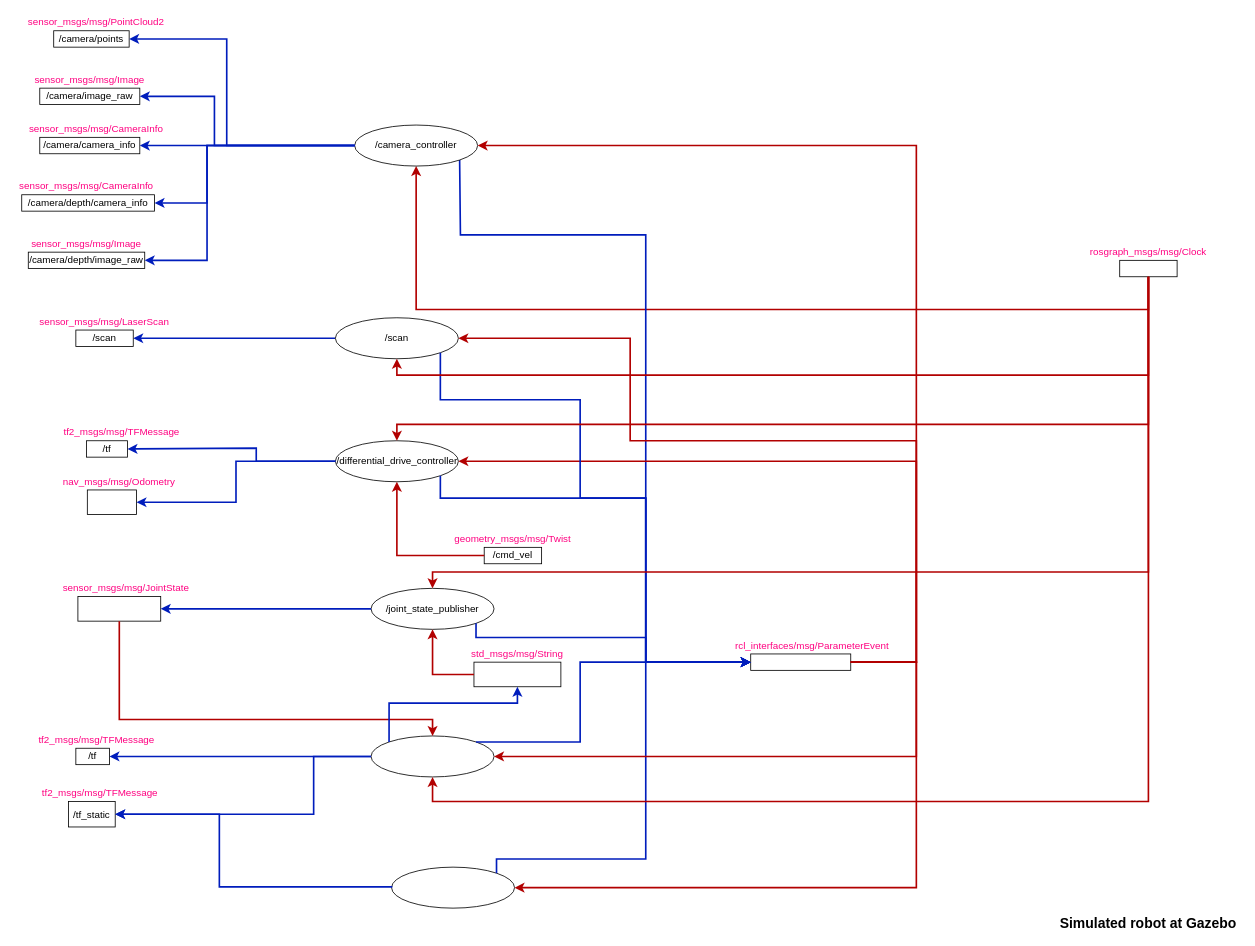
Some shapes in this 1255 by 946 pixel diagram are drawn without their labels. Each missing label, with the centre of its shape:
/clock: [1148,268]
/joint_states: [119,608]
/odom: [112,502]
/parameter_events: [800,661]
/robot_description: [517,674]
/robot_state_publisher: [432,756]
/static_transform_publisher: [453,887]
